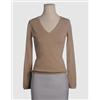maglia: (23, 16, 75, 90)
